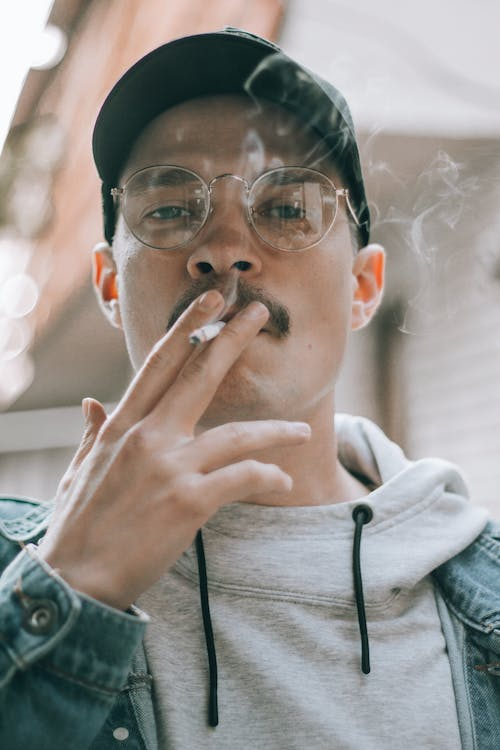cigarette: (185, 319, 230, 347)
